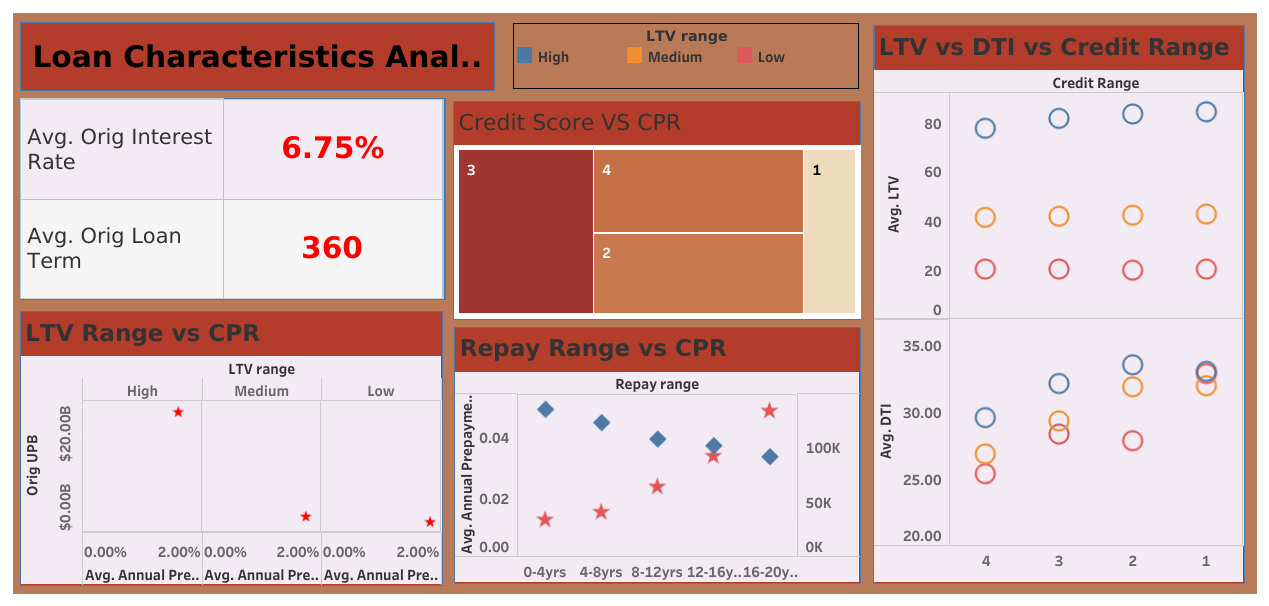

What the dashboard file says about the page in this screenshot:
{"tool":"tableau","page":{"name":"Dashboard 1","canvas":[1155,552],"ordinal":0},"visuals":[{"type":"image","param":"Image/OIP (3) 1.jpg","box":[8,8,1139,536]},{"type":"text","box":[18,20,432,63]},{"type":"legend","title":"LTV vs DTI vs Credit Range","param":"[federated.0easagf0t95p7s1ax6t9t1pez0a4].[none:LTV_range:nk]","box":[466,21,315,60]},{"type":"worksheet","title":"LTV vs DTI vs Credit Range","mark":"Shape","rows":["LTV","DTI"],"cols":["Credit Range (copy)_394346493655904257"],"box":[794,23,338,508]},{"type":"worksheet","title":"Kpi","mark":"Automatic","box":[18,89,387,184]},{"type":"worksheet","title":"Credit Score VS CPR","mark":"Automatic","box":[412,92,371,199]},{"type":"worksheet","title":"LTV Range vs CPR","mark":"Automatic","rows":["OrigUPB"],"cols":["LTV_range","Annual Prepayment Rate(CPR)"],"box":[18,283,385,250]},{"type":"worksheet","title":"Repay Range vs CPR","mark":"Shape","rows":["Annual Prepayment Rate(CPR)","OrigUPB"],"cols":["Repay_range"],"box":[413,297,370,234]}]}

Visuals, with their boxes in screenshot pixels (x1, y1, x2, y2), scaled from the page's 1155x552 canvas onto the 1269x606 screenshot:
image: 9,9,1260,597
text: 20,22,494,91
"LTV vs DTI vs Credit Range" legend: 512,23,858,89
"LTV vs DTI vs Credit Range" worksheet (Shape marks): 872,25,1244,583
"Kpi" worksheet: 20,98,445,300
"Credit Score VS CPR" worksheet: 453,101,860,319
"LTV Range vs CPR" worksheet: 20,311,443,585
"Repay Range vs CPR" worksheet (Shape marks): 454,326,860,583
